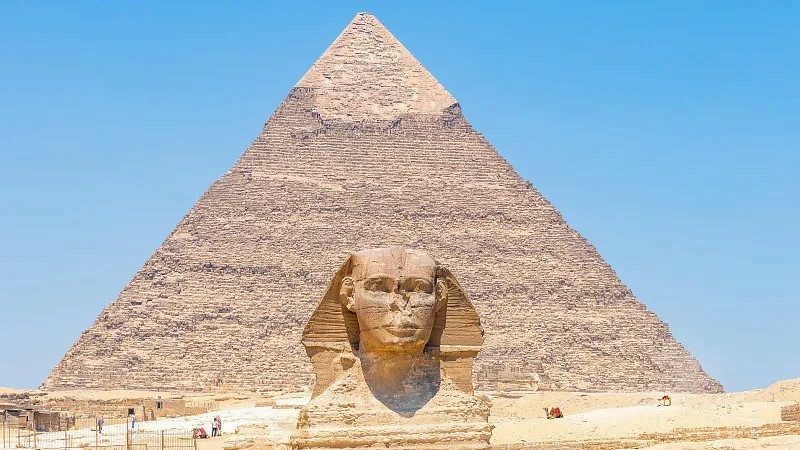Pyramid: (41, 11, 725, 395)
